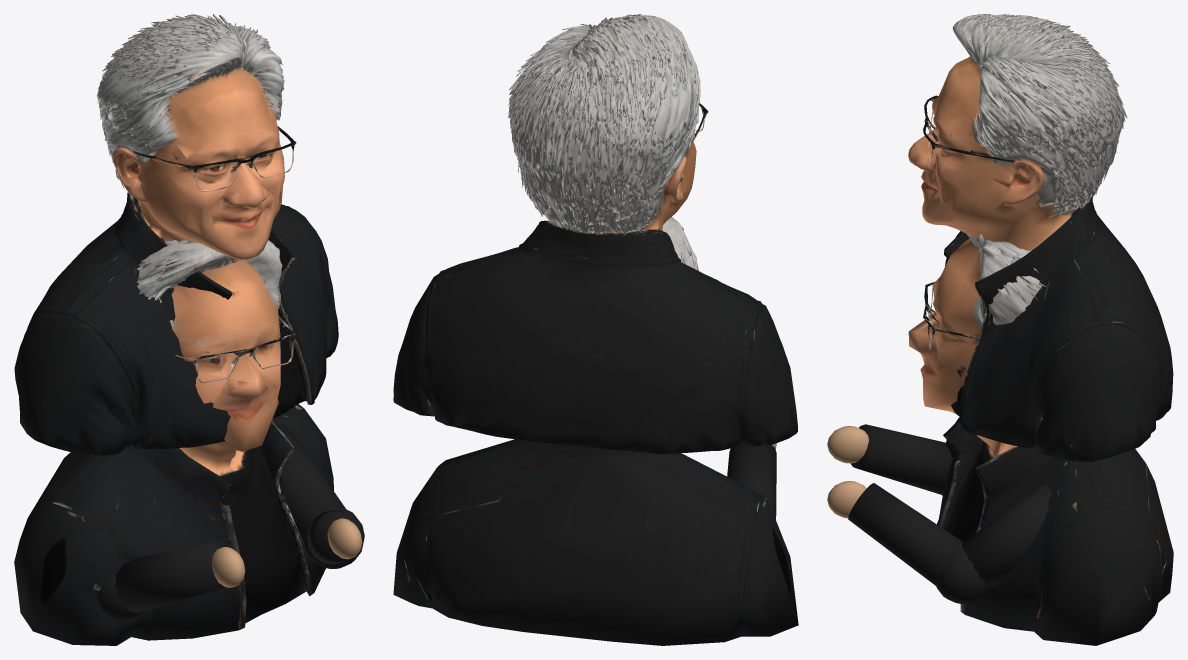
File: jensen-runtime.glb
3 renders of one model, left to right at view 1: azimuth 30°, elevation 25°; view 2: azimuth 150°, elevation 25°; view 3: azimuth 270°, elevation 25°, orthographic. The views are drawn at different scales.
Parts seen in each view (by area): view 1: jensen / portrait sculpture, jensen / driving sculpture, jensen / driving sleeves, jensen / driving hands; view 2: jensen / portrait sculpture, jensen / driving sculpture, jensen / driving sleeves; view 3: jensen / portrait sculpture, jensen / driving sculpture, jensen / driving sleeves, jensen / driving hands.
Boxes of the visible parts, x1,y1,x2,y2 form: jensen / portrait sculpture: (14, 14, 338, 455); jensen / driving sculpture: (14, 240, 333, 645); jensen / driving sleeves: (98, 424, 364, 620); jensen / driving hands: (212, 518, 362, 587); jensen / portrait sculpture: (393, 14, 797, 453); jensen / driving sculpture: (393, 217, 798, 645); jensen / driving sleeves: (727, 444, 776, 519); jensen / portrait sculpture: (908, 14, 1173, 461); jensen / driving sculpture: (908, 233, 1173, 645); jensen / driving sleeves: (848, 424, 1051, 603); jensen / driving hands: (827, 426, 868, 518).
Size of the model in its own units: 0.9589 by 1.5 by 0.8527.
3 materials, 1 textured.
